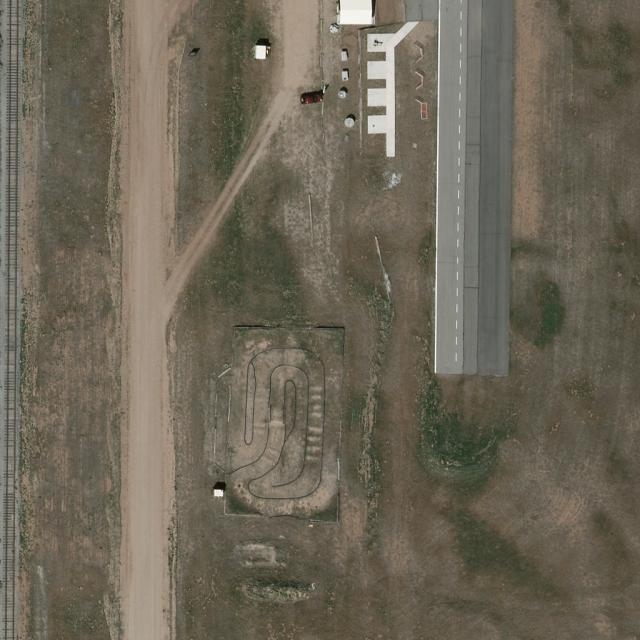vehicle: (298, 94, 324, 105)
